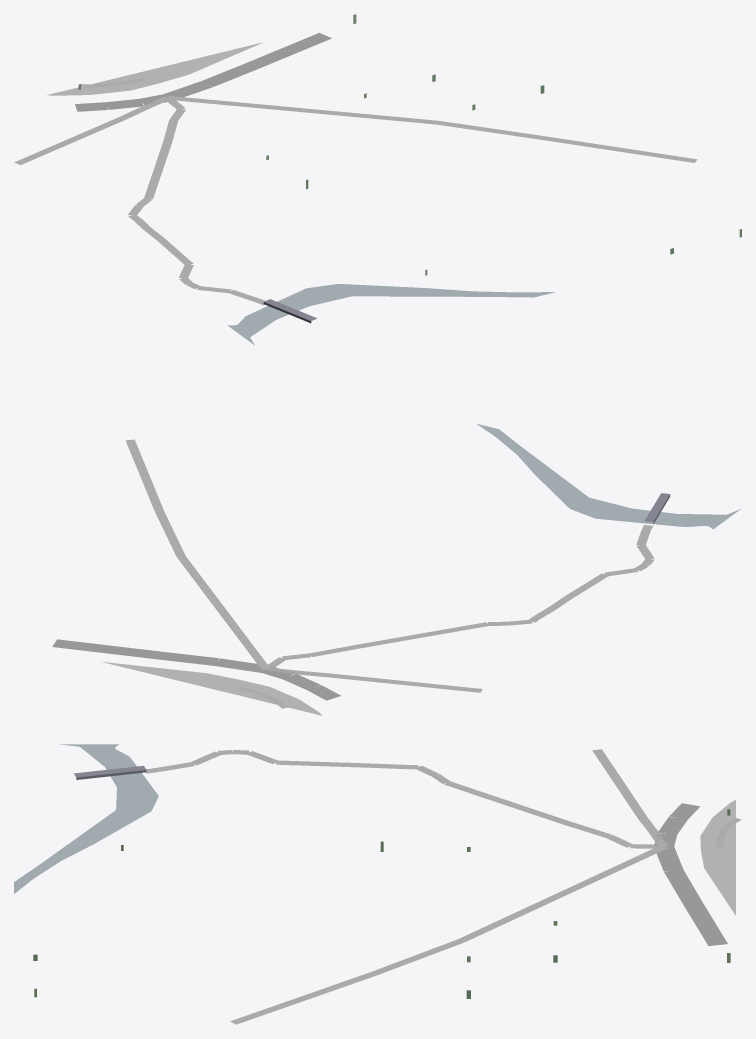
3 views of the same model, one above another, from view 1: azimuth 30°, elevation 25°; view 2: azimuth 150°, elevation 25°; view 3: azimuth 270°, elevation 25° (orthographic). The views are drawn at different scales.
Bounding box in the file's own units: 458 × 8.79 × 504.
